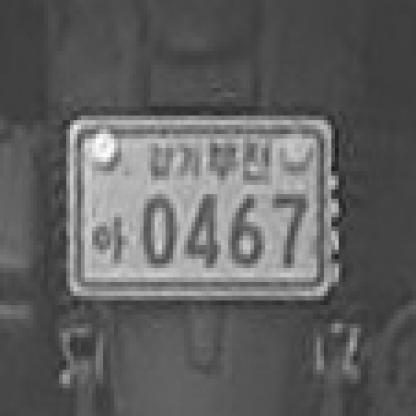bnum: (56, 115, 347, 316)
